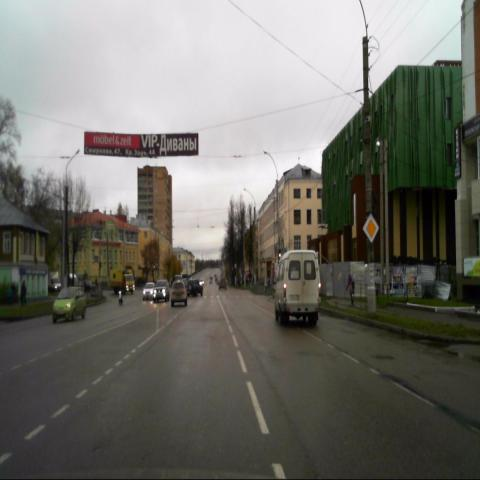2_1: (362, 213, 378, 243)
